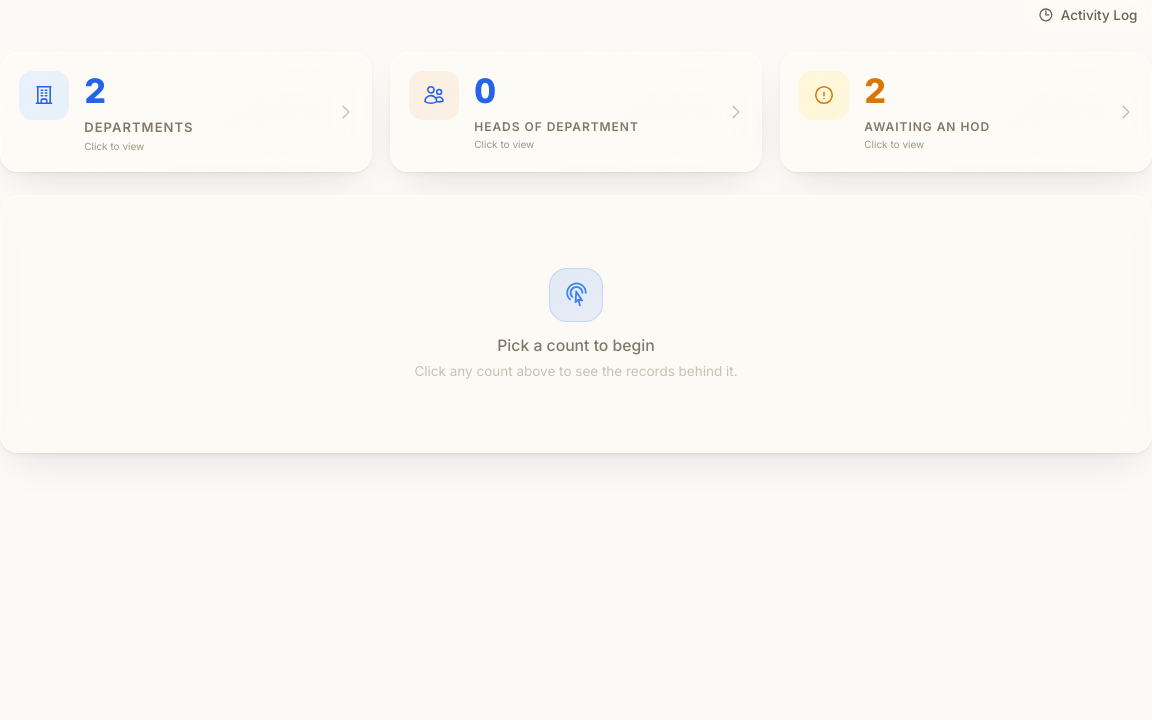
Scenario: AdminOverviewDrilldown — Departments view › clicking "Departments" reveals department cards and the New Department form
Click the button "2 Departments Click to view" at (44, 95), box x1=0 y1=52 x2=372 y2=172
(page scrolled)
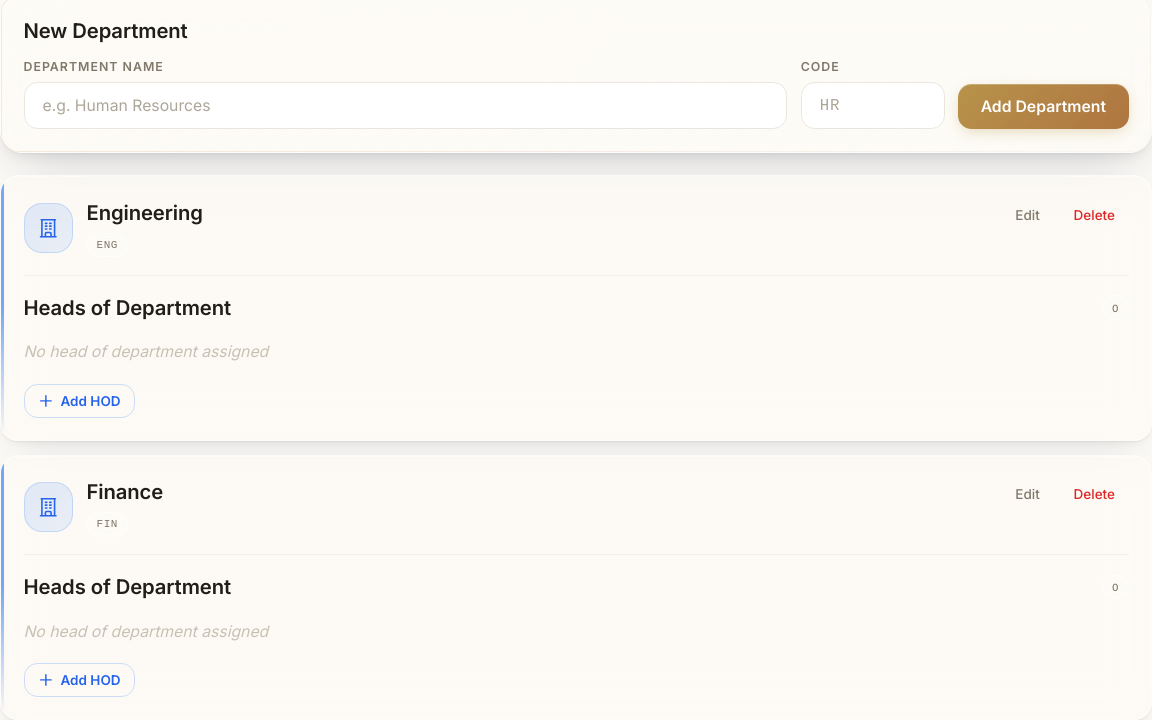
Result: the text "New Department" is shown at x1=24 y1=18 x2=188 y2=43
Result: the heading "Engineering" is shown at x1=86 y1=199 x2=203 y2=226
Result: the heading "Finance" is shown at x1=86 y1=478 x2=163 y2=505
